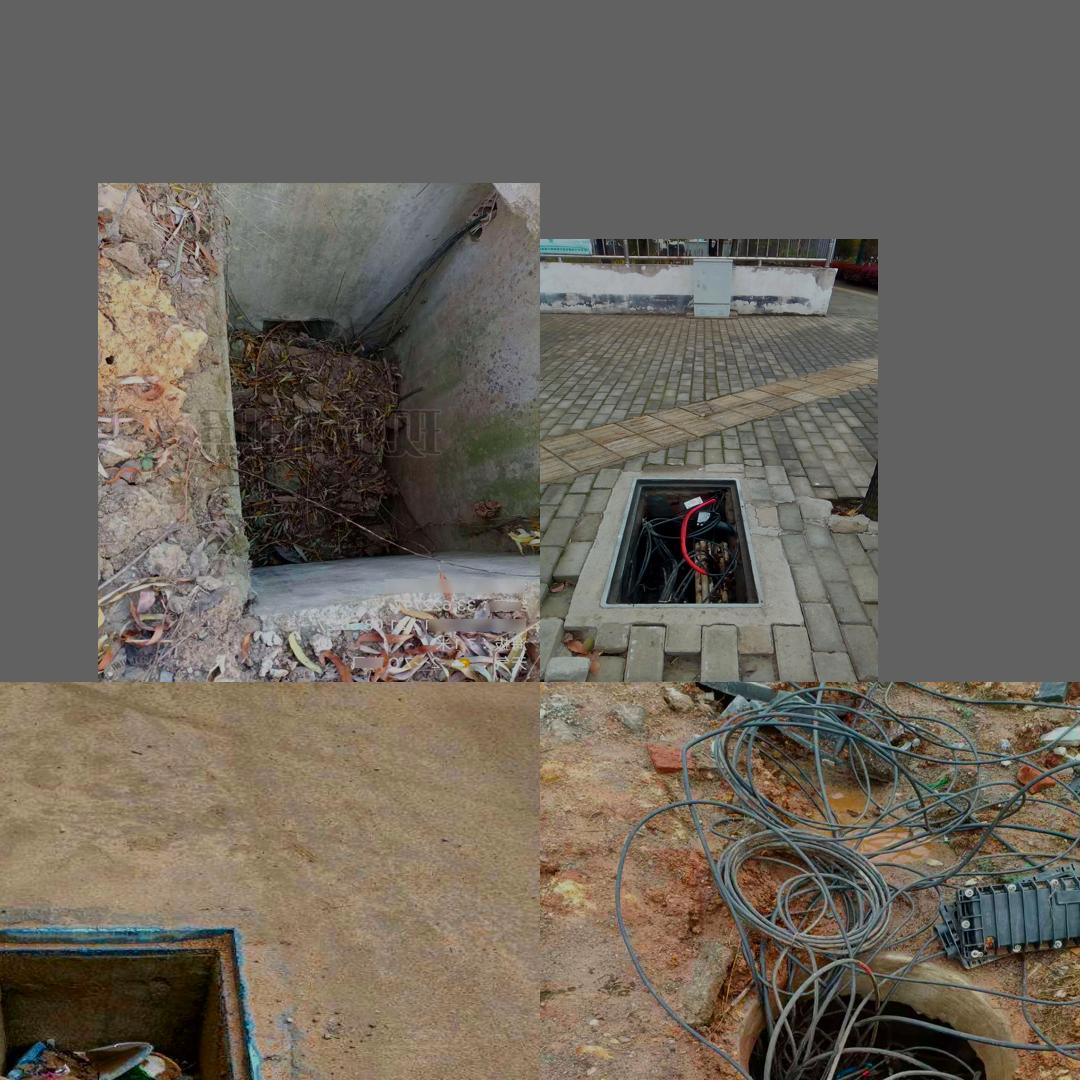lose: (173, 192, 533, 645), (693, 924, 1080, 1080), (0, 926, 287, 1080), (602, 461, 760, 611)
